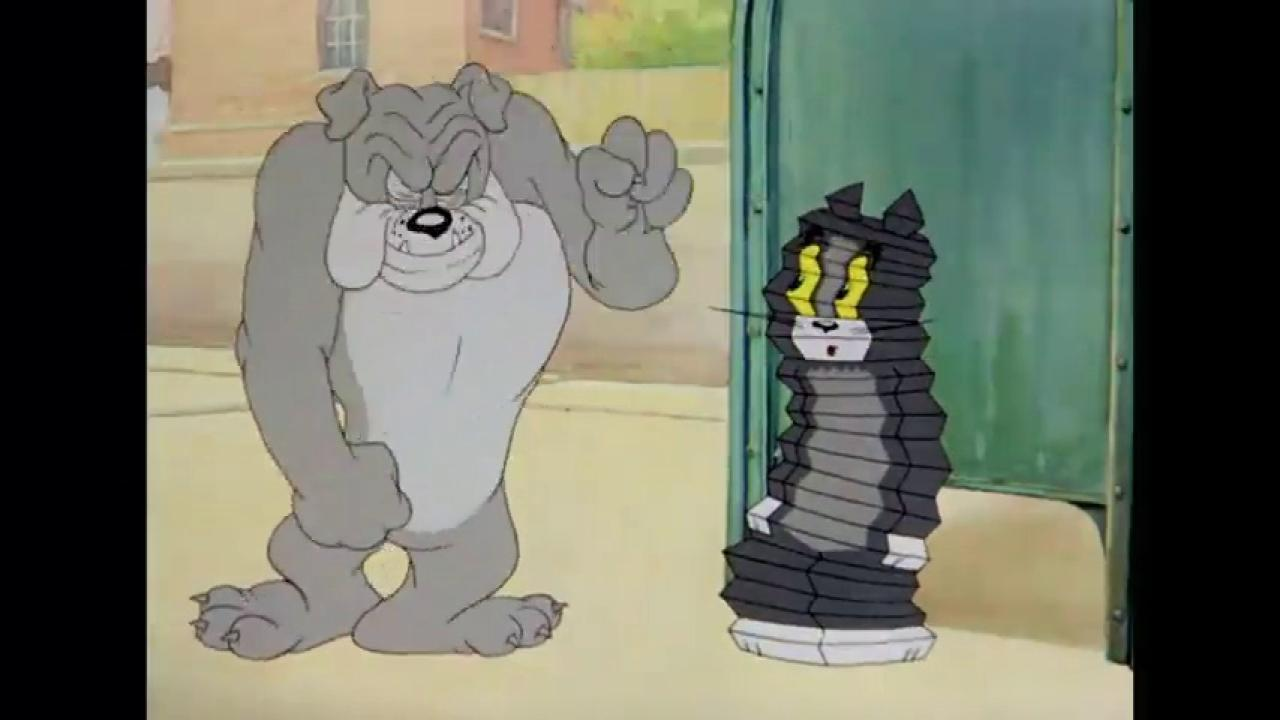Tom: (718, 178, 952, 667)
